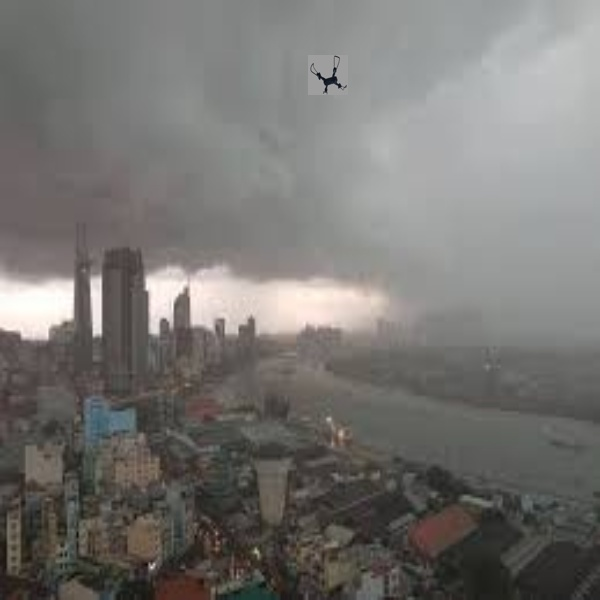drone: (308, 49, 351, 101)
